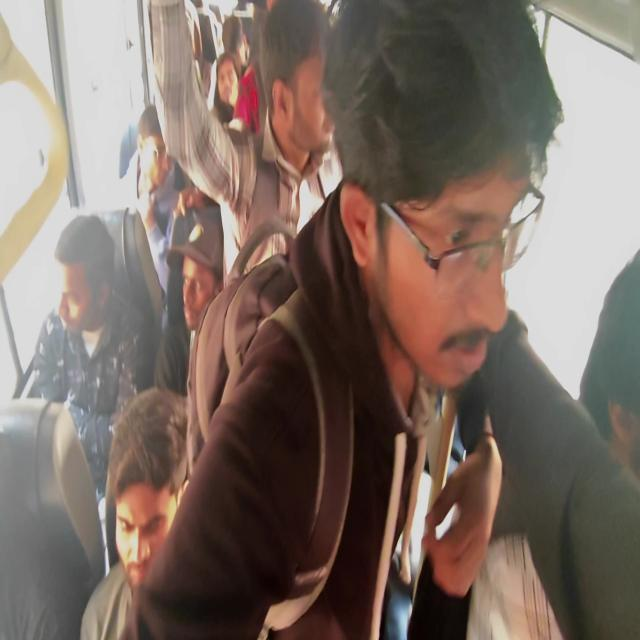person: (118, 0, 564, 638), (410, 249, 640, 638), (147, 0, 339, 284), (26, 213, 146, 568), (80, 386, 190, 638), (578, 247, 639, 478), (154, 208, 225, 394), (133, 104, 193, 304), (209, 50, 241, 128)
